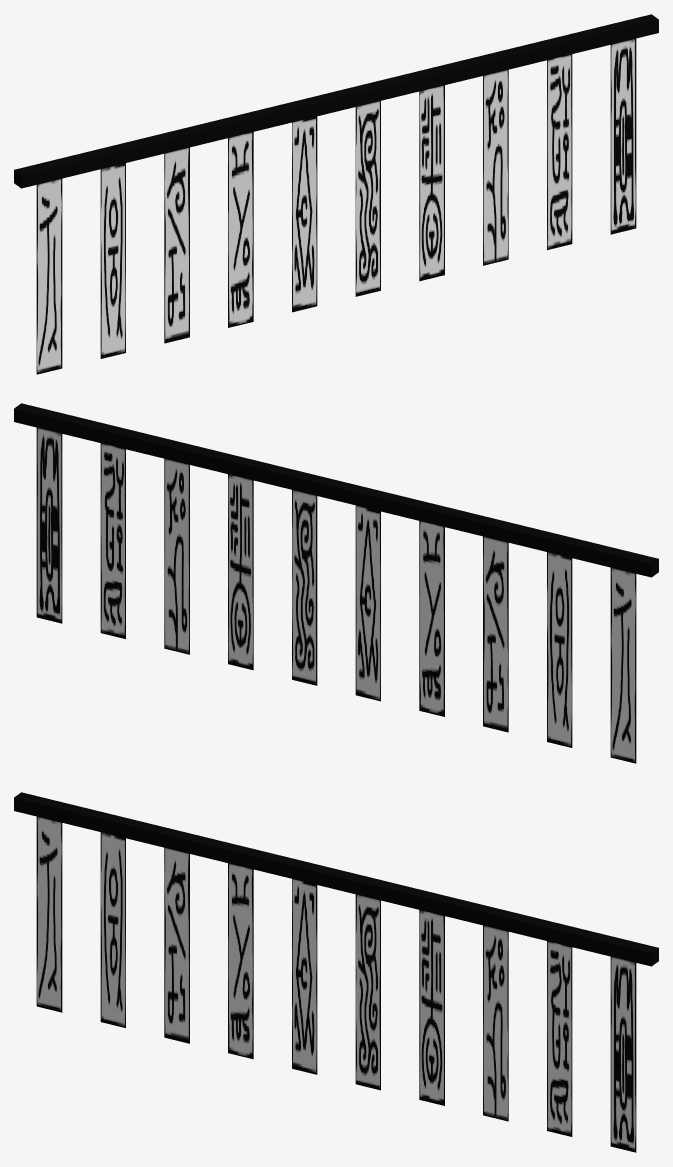
The model's file is Rope01a.glb.
3 views of the same model, one above another, from view 1: azimuth 30°, elevation 25°; view 2: azimuth 150°, elevation 25°; view 3: azimuth 330°, elevation 25° (orthographic).
Parts seen in each view (by area): view 1: Cube; view 2: Cube; view 3: Cube.
Boxes of the visible parts, x1,y1,x2,y2 form: Cube: (14,14,658,374); Cube: (14,403,658,763); Cube: (14,792,658,1152).
Bounding box in the file's own units: 1 × 0.31 × 0.02.
1 material, 1 textured.
